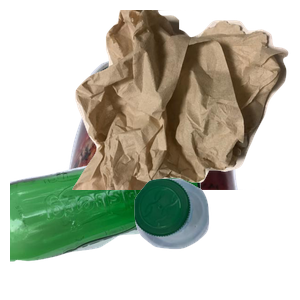glass: (10, 149, 203, 300)
metal: (62, 47, 300, 227)
plastic: (132, 176, 300, 300)
trash: (70, 10, 300, 190)
